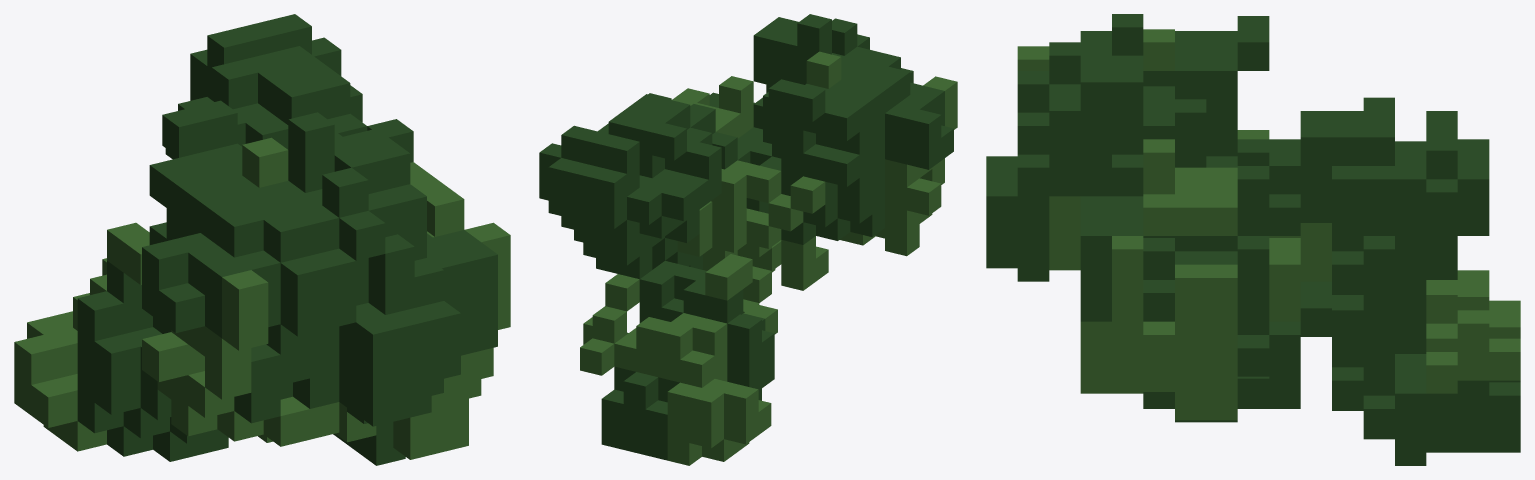
Rendered from bush_backwoods_2.obj.
3 renders of one model, left to right at view 1: azimuth 30°, elevation 25°; view 2: azimuth 150°, elevation 25°; view 3: azimuth 270°, elevation 25°, orthographic. The views are drawn at different scales.
Bounding box in the file's own units: 0.975 × 1.05 × 1.27.
Materials: 1 (1 with a texture image).
